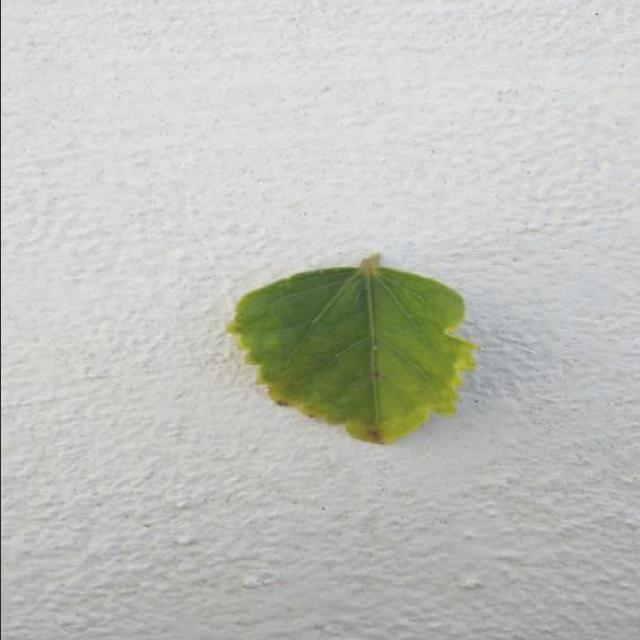leaf: (225, 251, 478, 445)
